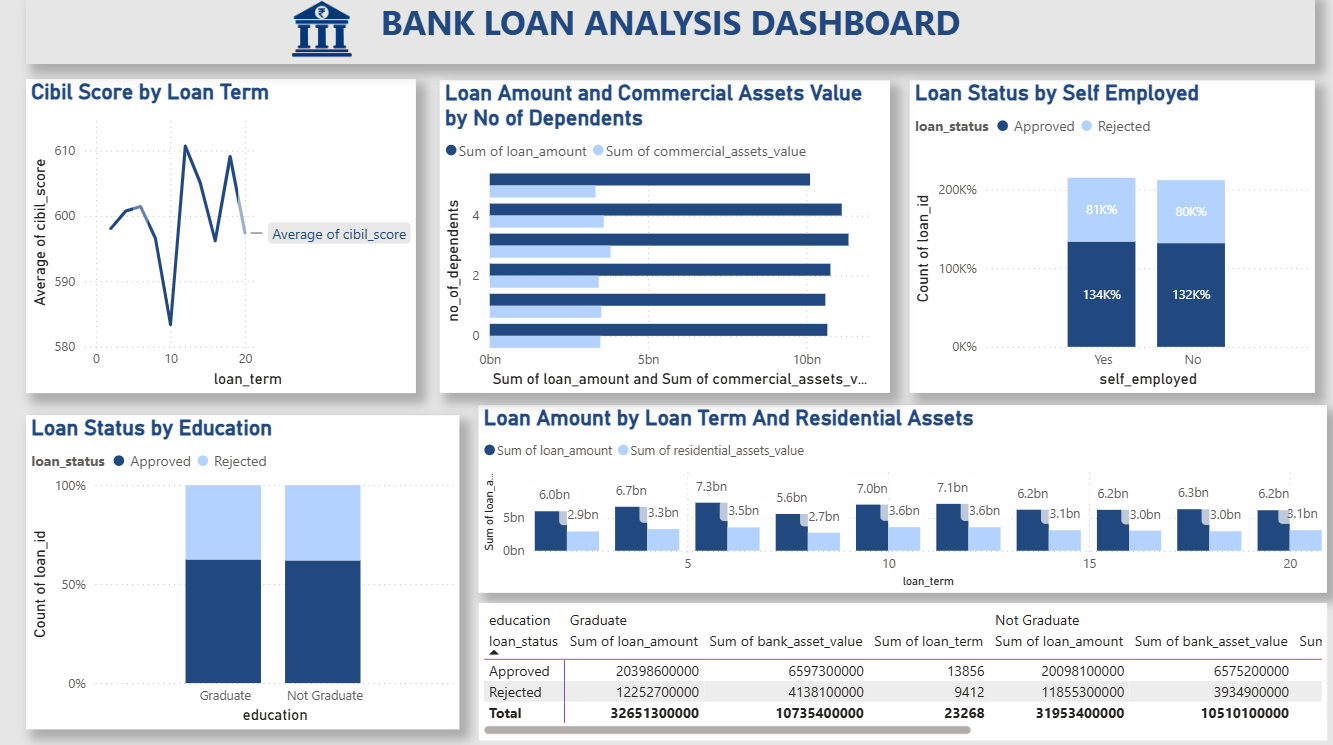

Layout of this report page (visuals, bound fields, positions):
{"tool":"powerbi","page":{"name":"Page 3","canvas":[1280,720],"ordinal":2},"visuals":[{"type":"hundredPercentStackedColumnChart","title":"Loan Status by Education","fields":{"Category":["cleaned_loan_dataset.education"],"Y":["CountNonNull(cleaned_loan_dataset.loan_id)"],"Series":["cleaned_loan_dataset.loan_status"]},"box":[28.6,401.2,413.1,298.8],"z":0},{"type":"columnChart","title":"Loan Status  by Self Employed ","fields":{"Category":["cleaned_loan_dataset.self_employed"],"Y":["CountNonNull(cleaned_loan_dataset.loan_id)"],"Series":["cleaned_loan_dataset.loan_status"]},"box":[870.2,82.1,385.7,297.6],"z":1000},{"type":"lineClusteredColumnComboChart","title":"Loan Amount by Loan Term And Residential Assets","fields":{"Category":["cleaned_loan_dataset.loan_term"],"Y":["Sum(cleaned_loan_dataset.loan_amount)","Sum(cleaned_loan_dataset.residential_assets_value)"]},"box":[459.5,391.7,808.3,178.6],"z":2000},{"type":"lineChart","title":"Cibil Score by Loan Term","fields":{"Category":["cleaned_loan_dataset.loan_term"],"Y":["Avg(cleaned_loan_dataset.cibil_score)"]},"box":[28.6,81,371.4,298.8],"z":3000},{"type":"clusteredBarChart","title":"Loan Amount and Commercial Assets Value by No of Dependents","fields":{"Category":["cleaned_loan_dataset.no_of_dependents"],"Y":["Sum(cleaned_loan_dataset.loan_amount)","Sum(cleaned_loan_dataset.commercial_assets_value)"]},"box":[422.6,82.1,428.6,297.6],"z":4000},{"type":"pivotTable","fields":{"Rows":["cleaned_loan_dataset.loan_status"],"Values":["Sum(cleaned_loan_dataset.loan_amount)","Sum(cleaned_loan_dataset.bank_asset_value)","Sum(cleaned_loan_dataset.loan_term)"],"Columns":["cleaned_loan_dataset.education"]},"box":[459.5,579.8,808.3,131],"z":5000},{"type":"textbox","box":[28.6,0,1227.4,66.7],"z":6000},{"type":"image","box":[251,0,117.7,67.2],"z":7000}]}

Visuals, with their boxes in screenshot pixels (x1, y1, x2, y2), scaled from the page's 1280x720 canvas onto the 1333x745 screenshot:
"Loan Status by Education" hundredPercentStackedColumnChart: [x1=30, y1=415, x2=460, y2=724]
"Loan Status  by Self Employed " columnChart: [x1=906, y1=85, x2=1308, y2=393]
"Loan Amount by Loan Term And Residential Assets" lineClusteredColumnComboChart: [x1=479, y1=405, x2=1320, y2=590]
"Cibil Score by Loan Term" lineChart: [x1=30, y1=84, x2=417, y2=393]
"Loan Amount and Commercial Assets Value by No of Dependents" clusteredBarChart: [x1=440, y1=85, x2=886, y2=393]
pivotTable - cleaned_loan_dataset.loan_status x Sum(cleaned_loan_dataset.loan_amount): [x1=479, y1=600, x2=1320, y2=735]
textbox: [x1=30, y1=0, x2=1308, y2=69]
image: [x1=261, y1=0, x2=384, y2=70]
